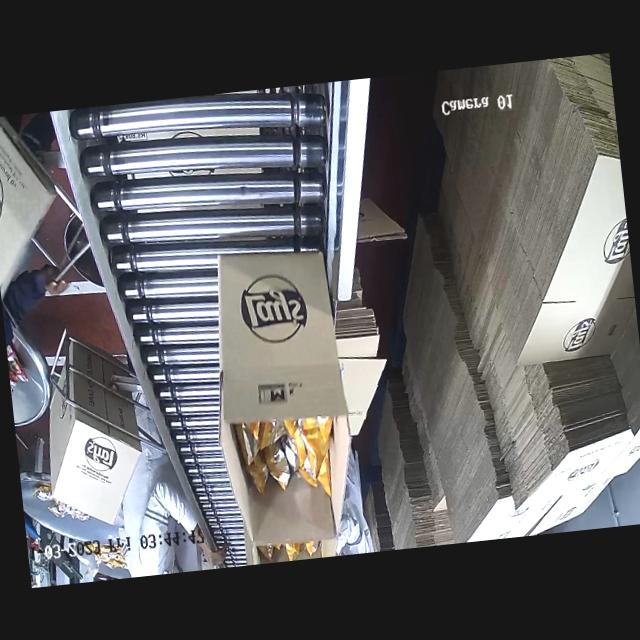cheese: (234, 407, 356, 518), (260, 538, 330, 564)
